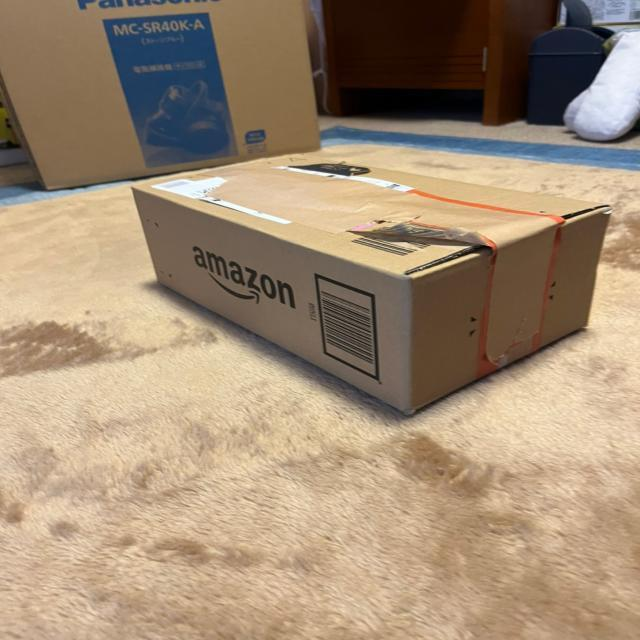box: (122, 147, 624, 420)
